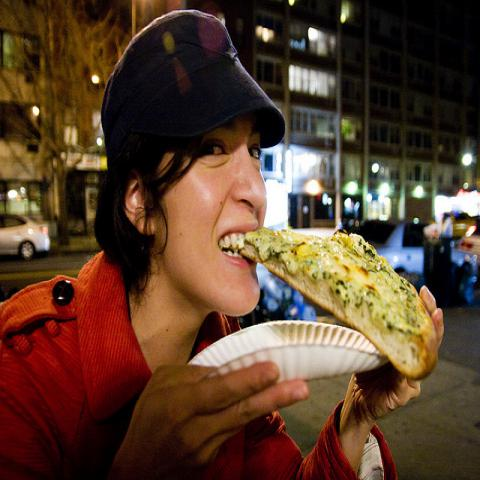car: (345, 220, 424, 285), (0, 214, 50, 260)
